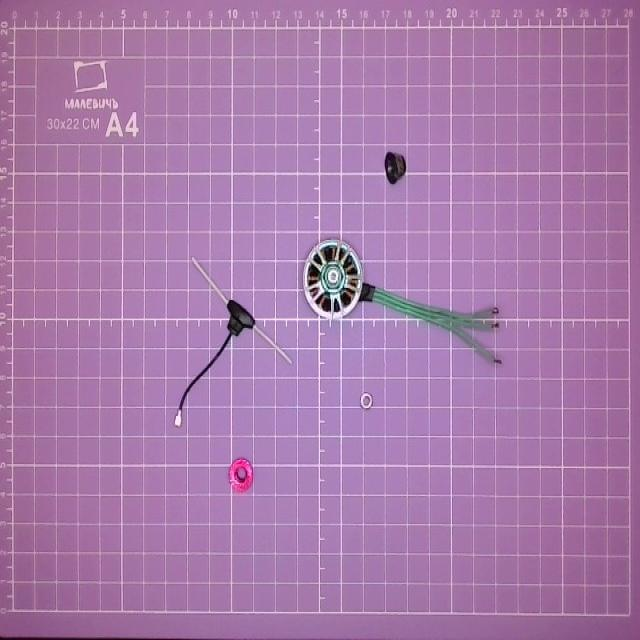antenna: (176, 256, 294, 430)
motor: (300, 236, 508, 370)
screw_M3: (358, 388, 377, 416)
screw_M5: (225, 447, 257, 500), (381, 146, 409, 189)
